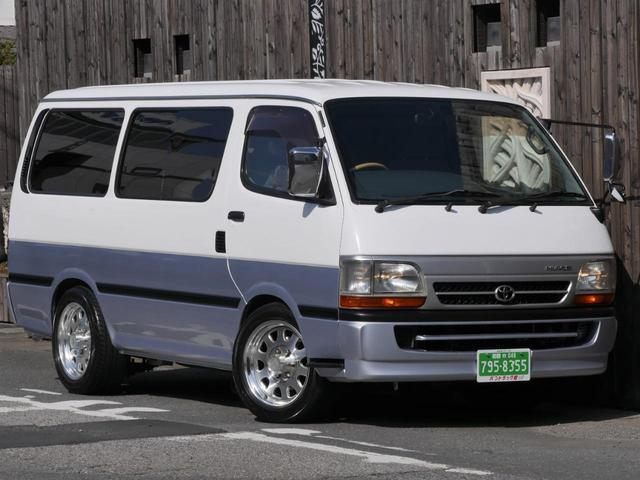Van: (12, 84, 626, 426)
